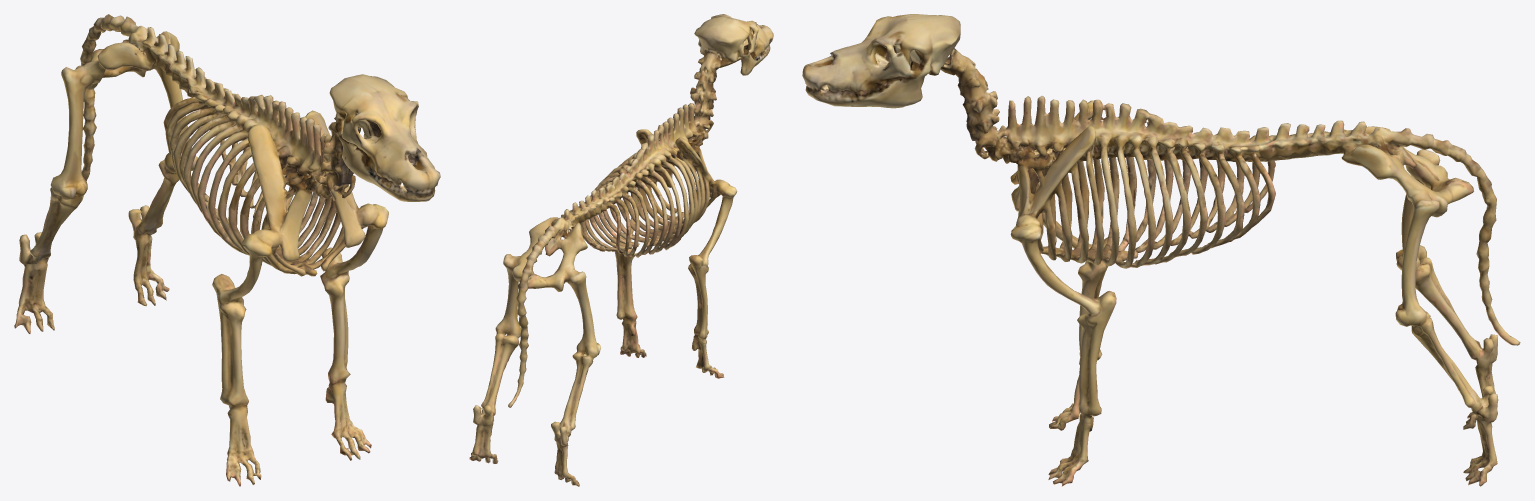
Rendered from 1761088853369_cachorroOssea.glb.
The picture shows the model from 3 angles, left to right: view 1: azimuth 30°, elevation 25°; view 2: azimuth 150°, elevation 25°; view 3: azimuth 270°, elevation 25°; orthographic projection. The views are drawn at different scales.
Parts seen in each view (by area): view 1: Mesh1.0; view 2: Mesh1.0; view 3: Mesh1.0.
Boxes of the visible parts, x1,y1,x2,y2 form: Mesh1.0: (14, 14, 440, 486); Mesh1.0: (469, 14, 773, 486); Mesh1.0: (802, 14, 1520, 486).
Size of the model in its own units: 0.4399 by 1.19 by 1.77.
1 material, 1 textured.
